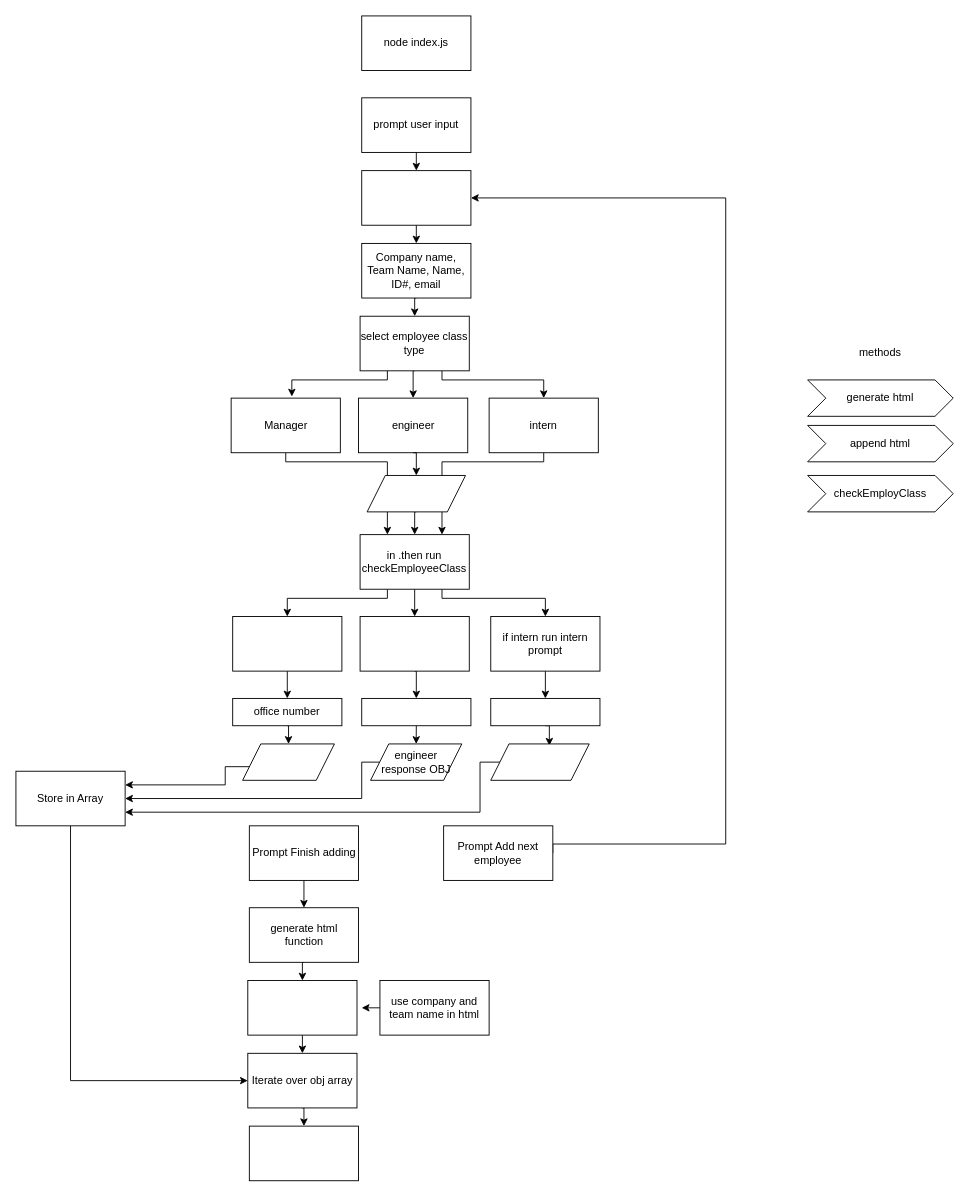
This 969x1197 diagram has some shape labels left out. The centre of each missing label's shape, as x and y in pixels:
"append to DIV container in html" goes at (x=303, y=1153).
"gitHub" goes at (x=416, y=712).
"if engineer run engineer prompt" goes at (x=414, y=643).
"if manager run manager prompt" goes at (x=287, y=643).
"intern response OBJ" goes at (x=539, y=761).
"Manager response OBJ" goes at (x=288, y=761).
"Prompt employee class questions" goes at (x=416, y=197).
"response OBJ" goes at (x=416, y=493).
"school" goes at (x=545, y=712).
"write HTML file" goes at (x=302, y=1007).
